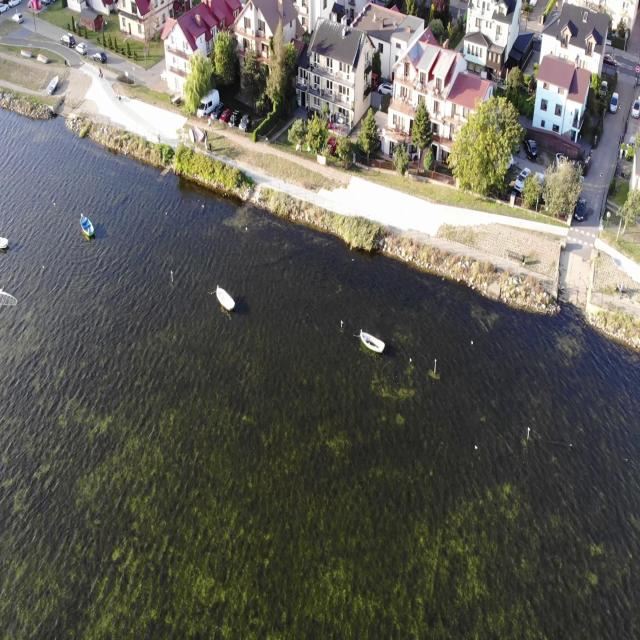boat: (216, 280, 236, 314), (360, 328, 386, 354), (80, 210, 96, 242)
